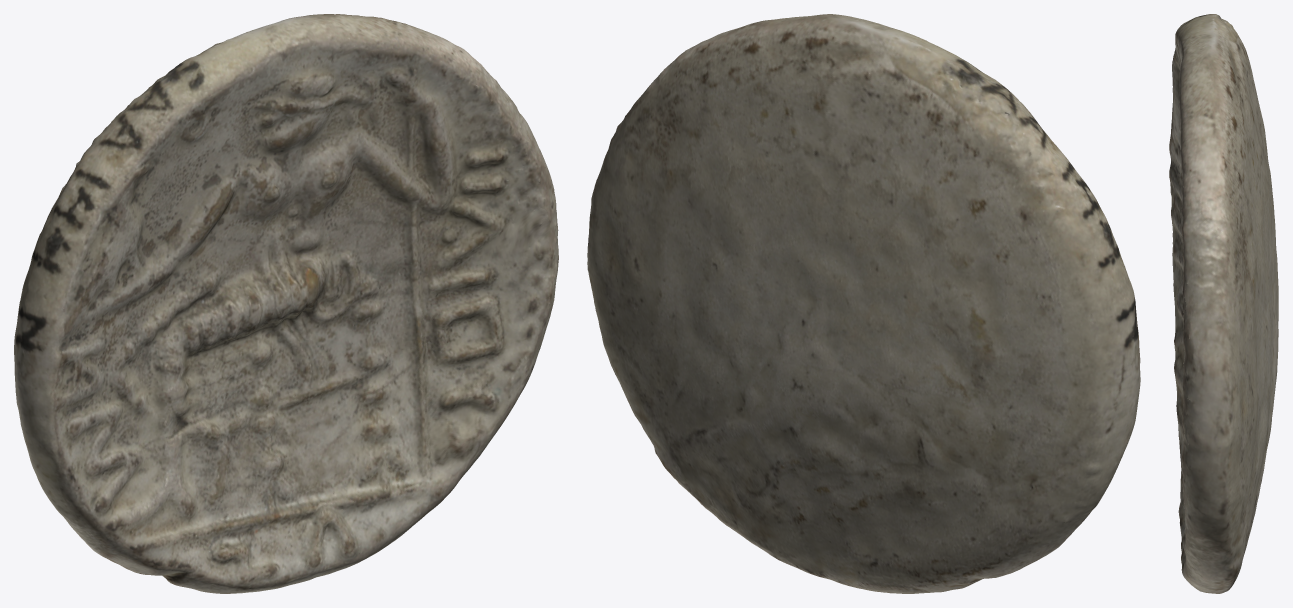
Rendered from coin.glb.
3 renders of one model, left to right at view 1: azimuth 30°, elevation 25°; view 2: azimuth 150°, elevation 25°; view 3: azimuth 270°, elevation 25°, orthographic. The views are drawn at different scales.
Parts seen in each view (by area): view 1: Model; view 2: Model; view 3: Model.
Boxes of the visible parts, bbox=[...] form: Model: bbox=[14, 14, 558, 593]; Model: bbox=[587, 14, 1140, 593]; Model: bbox=[1169, 14, 1278, 593].
Size of the model in its own units: 0.0249 by 0.0248 by 0.00469.
Materials: 1 (1 with a texture image).
